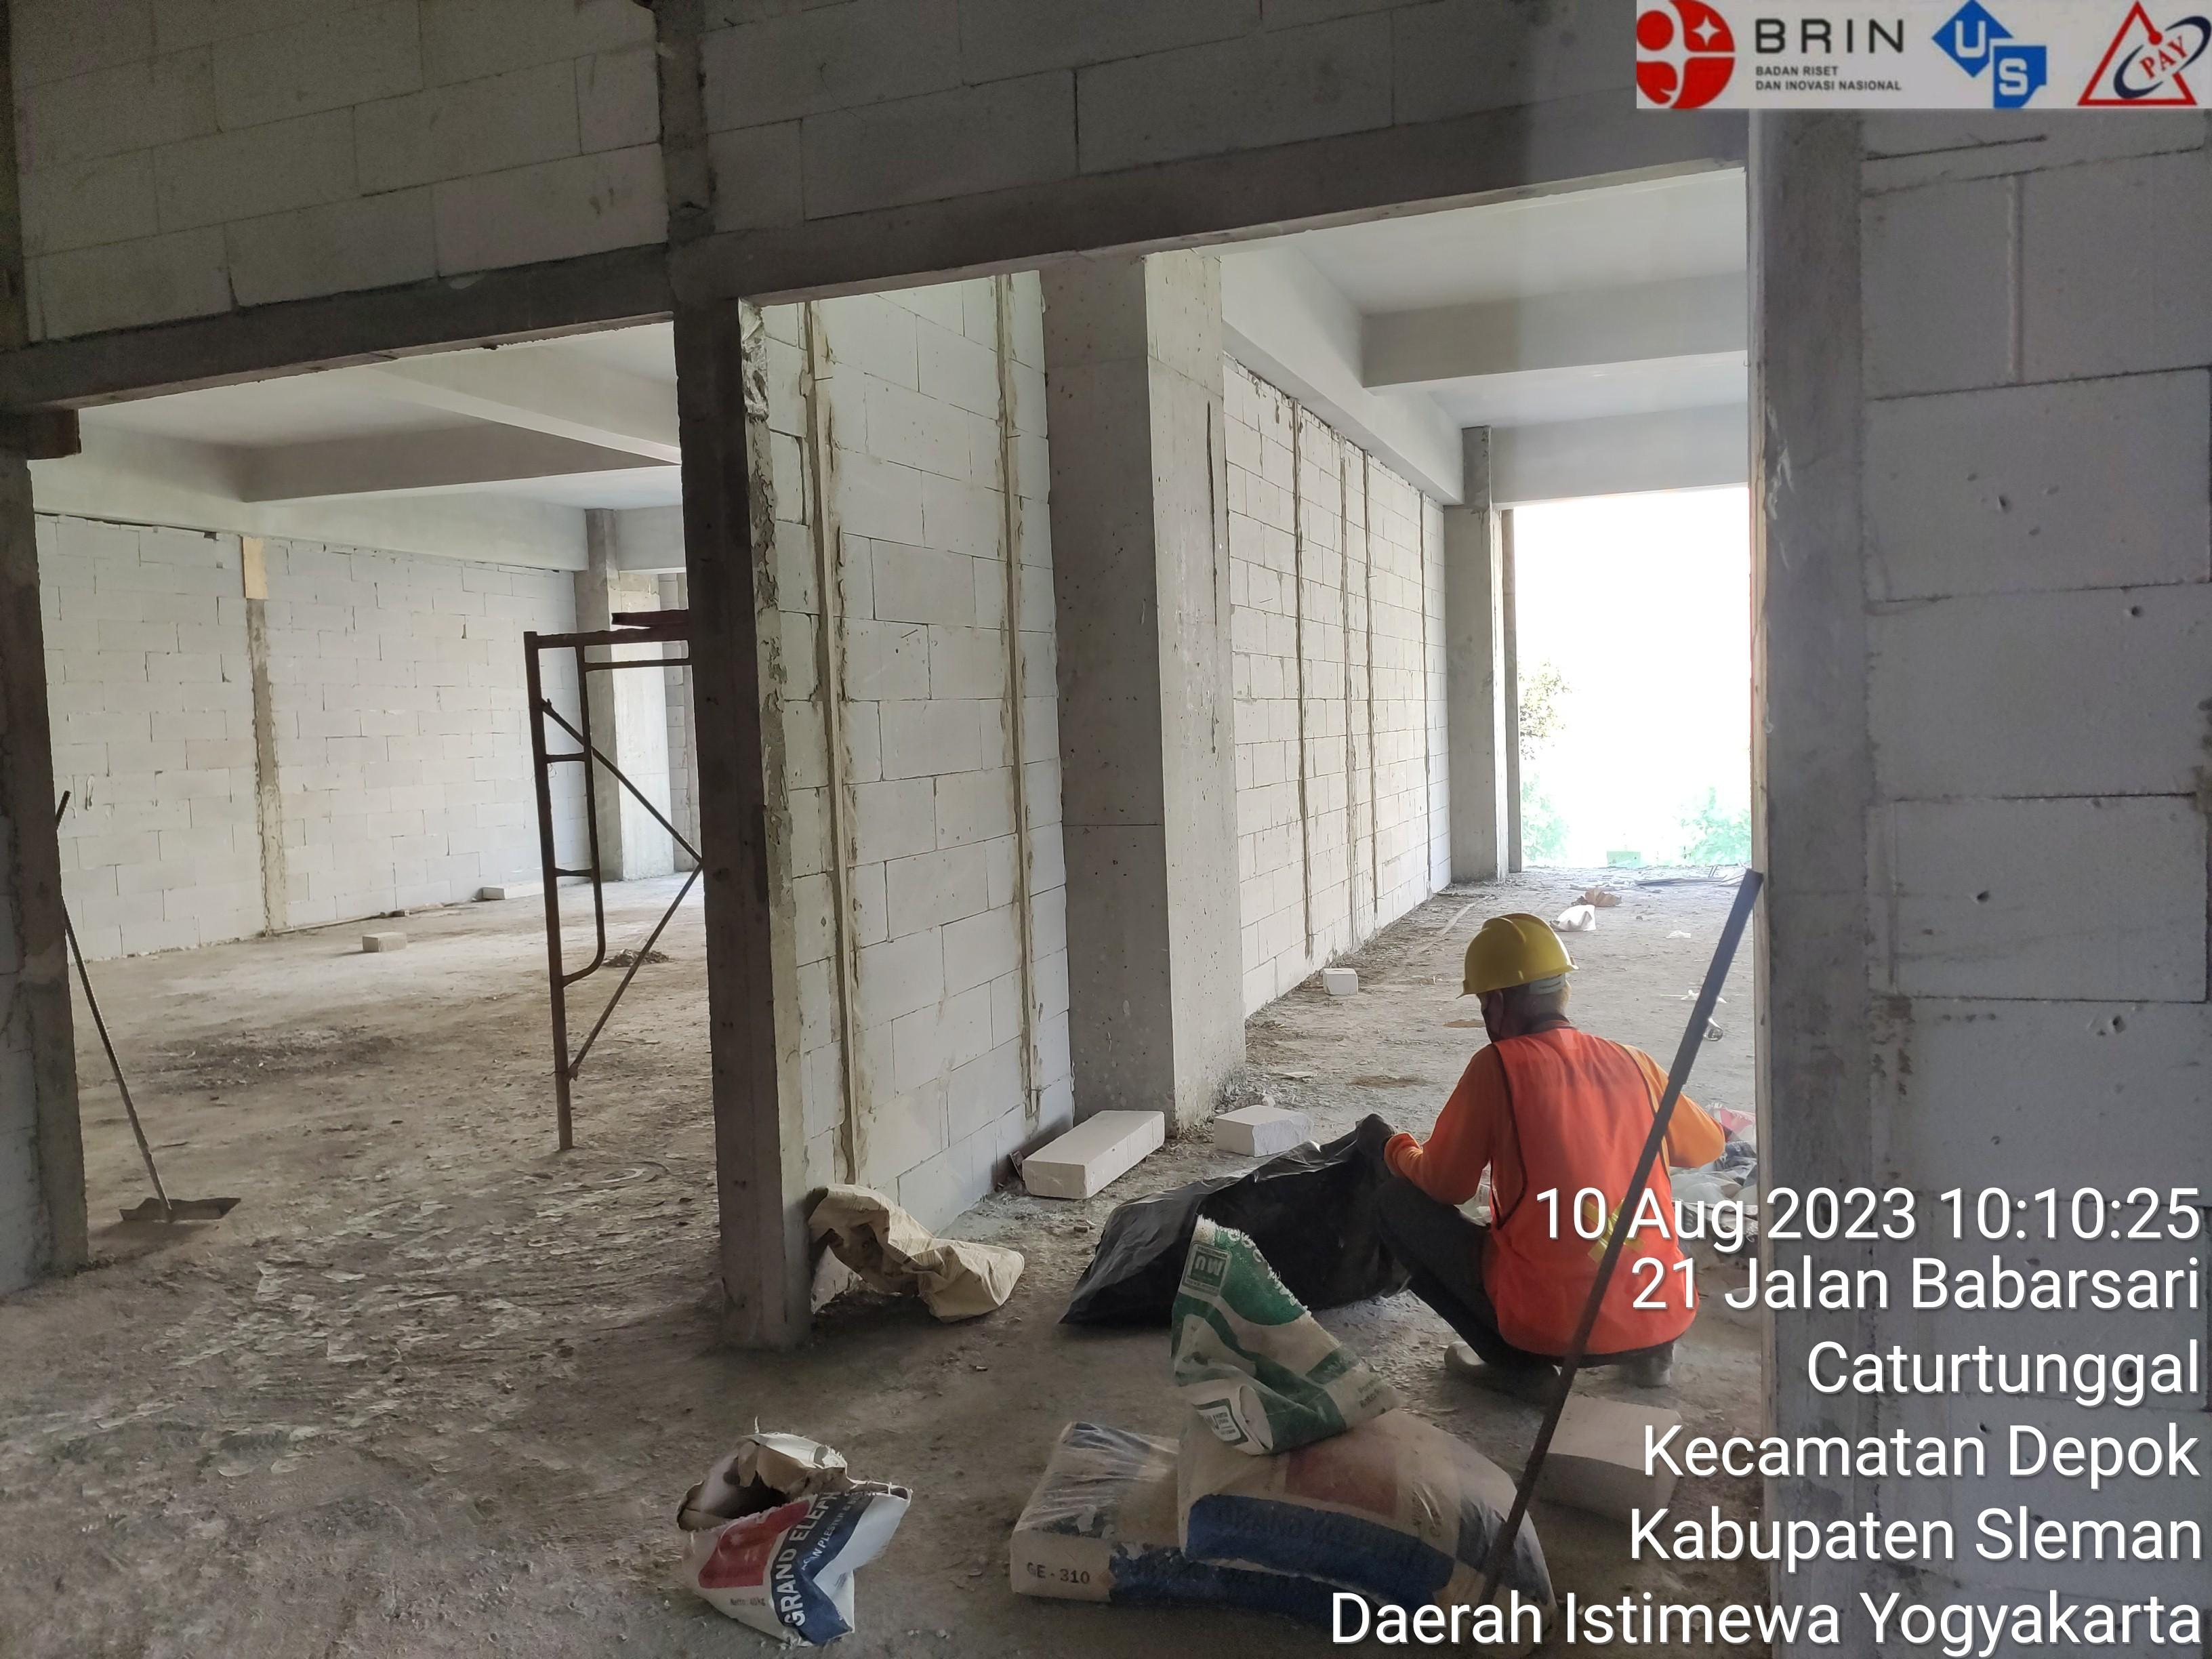hat: (1426, 861, 1573, 1054)
vest: (1404, 1021, 1733, 1380)
